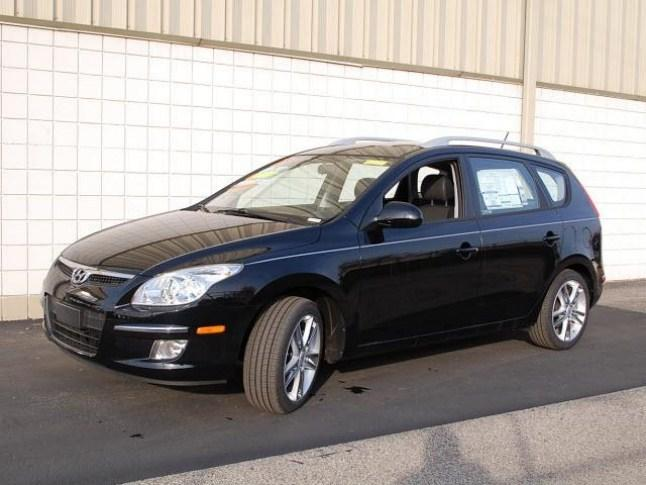car: (42, 131, 612, 414)
